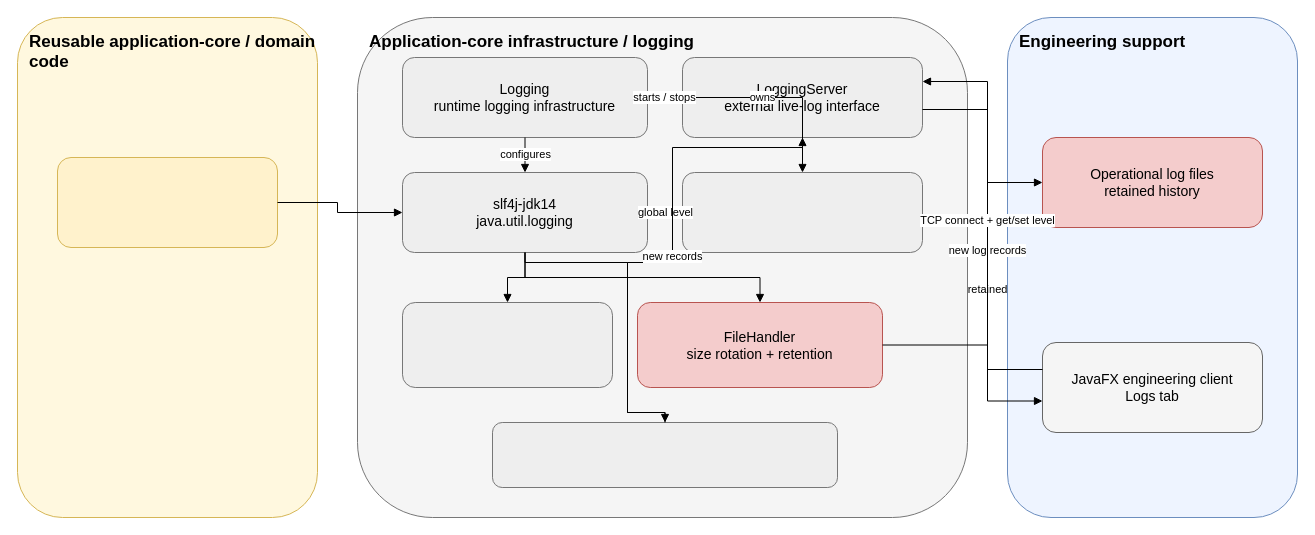
This 1315x535 diagram has some shape labels left out. The centre of each missing label's shape, as x and y in pixels:
ConsoleHandler local diagnostics: point 507,345
LiveLogHandler best-effort publisher: point 665,455
LoggingControl configured level + runtime override: point 802,212
SLF4J API application-core log calls: point 167,202
